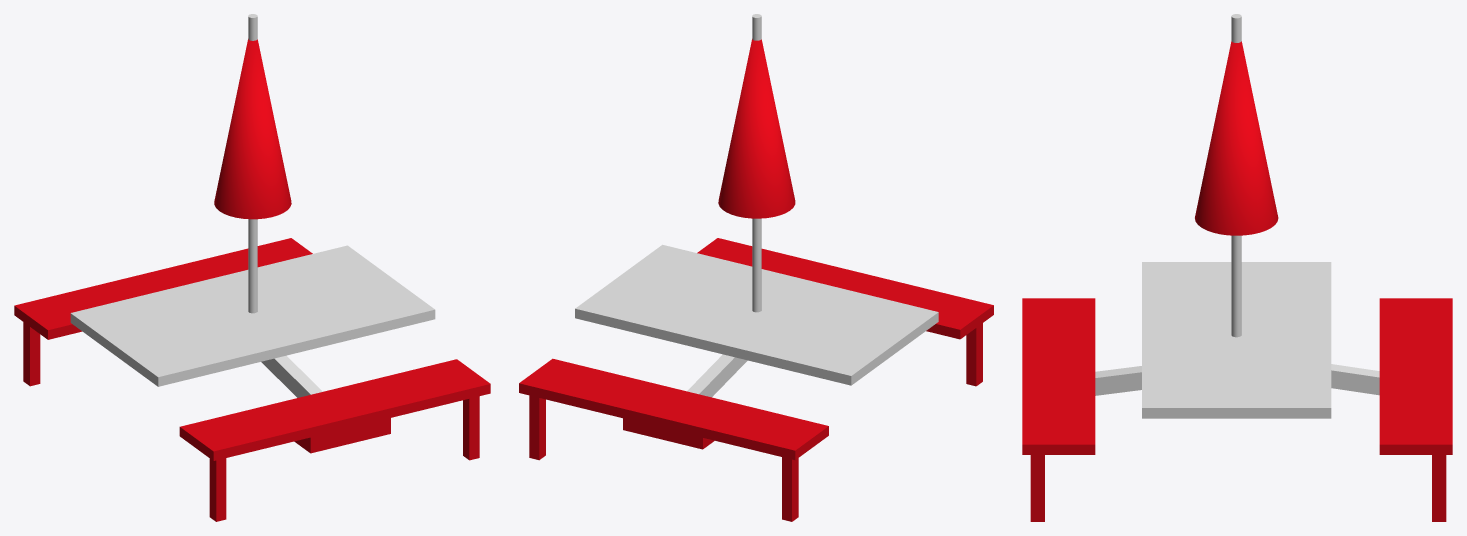
File: PatioTable_Umbrella.fbx
3 views of the same model, side by side, from view 1: azimuth 30°, elevation 25°; view 2: azimuth 150°, elevation 25°; view 3: azimuth 270°, elevation 25° (orthographic). The views are drawn at different scales.
Visible parts, largest first — view 1: Cube, Cube.002, Cone, Cube.001, Cube.007, Cube.005, Cube.009, Cube.008, Cube.012, Cylinder; view 2: Cube, Cube.001, Cone, Cube.002, Cube.004, Cube.006, Cube.012, Cube.010, Cube.009, Cylinder; view 3: Cube, Cube.001, Cube.002, Cone, Cube.004, Cube.005, Cylinder, Cube.008, Cube.010.
Part boxes in pixels (x1,y1,x2,y2): Cube: (70,245,435,386); Cube.002: (179,359,490,460); Cone: (214,39,291,219); Cube.001: (14,238,312,339); Cube.007: (294,418,390,453); Cube.005: (261,355,322,397); Cube.009: (209,458,226,521); Cube.008: (463,396,479,460); Cube.012: (23,322,40,386); Cylinder: (248,219,257,313); Cube: (575,244,938,385); Cube.001: (519,358,828,460); Cone: (718,39,795,218); Cube.002: (697,238,993,339); Cube.004: (687,354,747,397); Cube.006: (623,418,714,449); Cube.012: (782,457,798,521); Cube.010: (529,395,545,460); Cube.009: (966,323,982,386); Cylinder: (752,218,761,312); Cube: (1142,262,1331,418); Cube.001: (1379,298,1452,454); Cube.002: (1022,298,1095,454); Cone: (1195,41,1278,235); Cube.004: (1331,364,1379,395); Cube.005: (1095,366,1141,395); Cylinder: (1231,235,1241,337); Cube.008: (1030,455,1044,521); Cube.010: (1432,455,1446,521).
Bounding box in the file's own units: 485 × 676 × 605.
